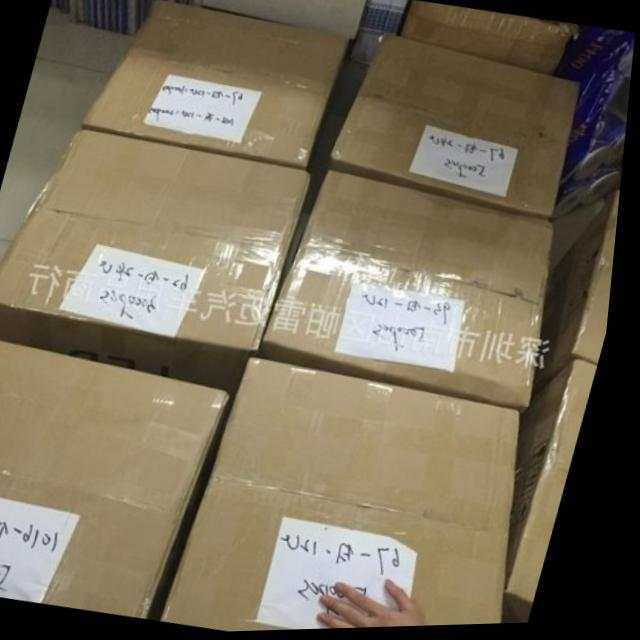box: (172, 359, 526, 633), (0, 128, 313, 400), (263, 171, 557, 419), (0, 339, 240, 620), (331, 35, 582, 225), (82, 0, 350, 172), (514, 361, 604, 627), (538, 193, 624, 399), (400, 2, 579, 80)
